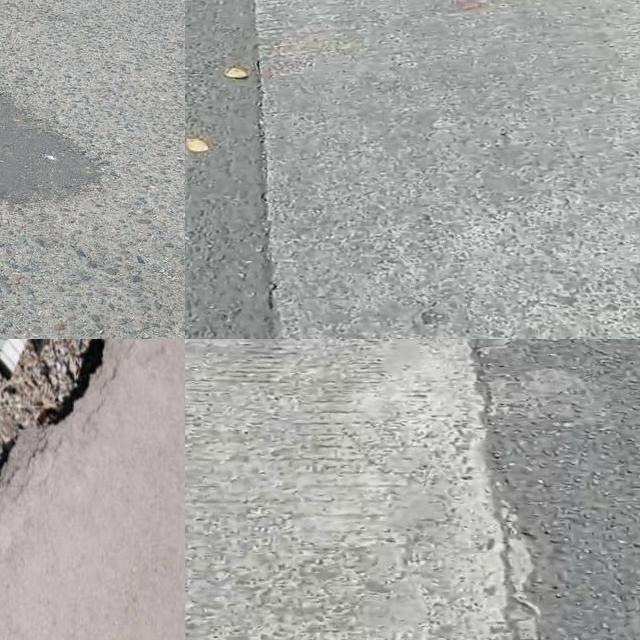Pinggir: (0, 339, 124, 528)
Sambungan: (248, 0, 640, 339), (185, 339, 552, 640)
